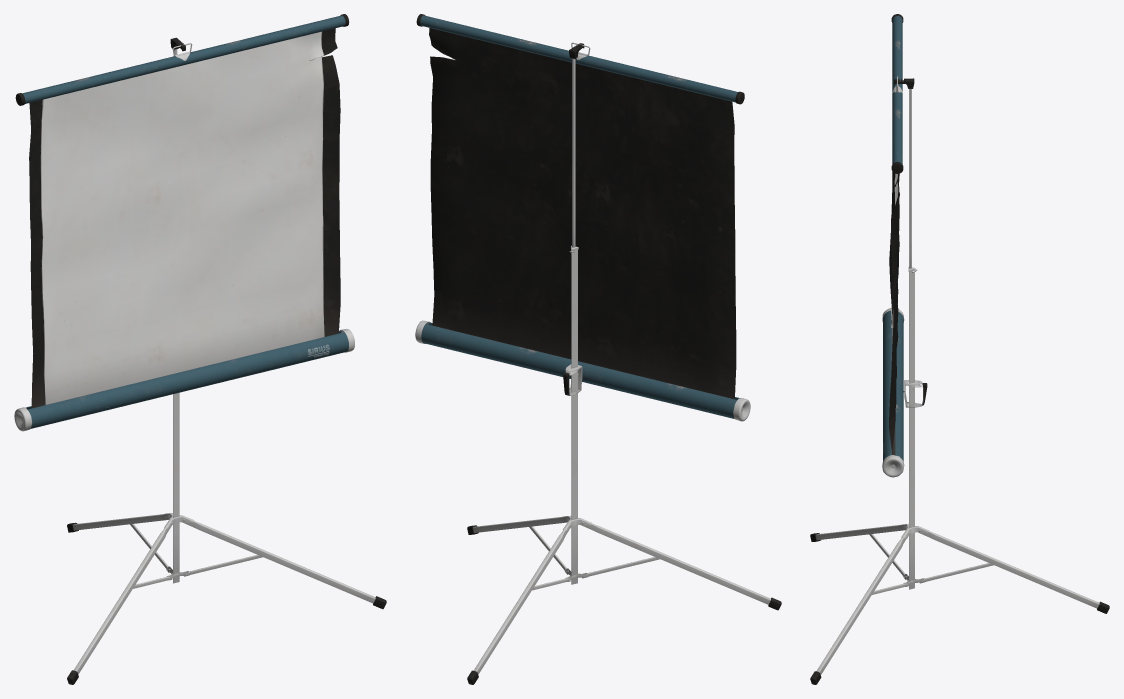
The model's file is projector-screen.glb.
The picture shows the model from 3 angles, left to right: view 1: azimuth 30°, elevation 25°; view 2: azimuth 150°, elevation 25°; view 3: azimuth 270°, elevation 25°; orthographic projection. The views are drawn at different scales.
Visible parts, largest first — view 1: projector_screen, projector_screen_frame; view 2: projector_screen, projector_screen_frame; view 3: projector_screen, projector_screen_frame.
Part boxes in pixels (x1,y1,x2,y2): projector_screen: (14, 14, 354, 431); projector_screen_frame: (67, 392, 386, 684); projector_screen: (415, 14, 750, 421); projector_screen_frame: (467, 245, 781, 684); projector_screen: (882, 14, 927, 477); projector_screen_frame: (810, 267, 1109, 684).
Bounding box in the file's own units: 1.09 × 1.8 × 0.9158.
Materials: 2 (2 with a texture image).
